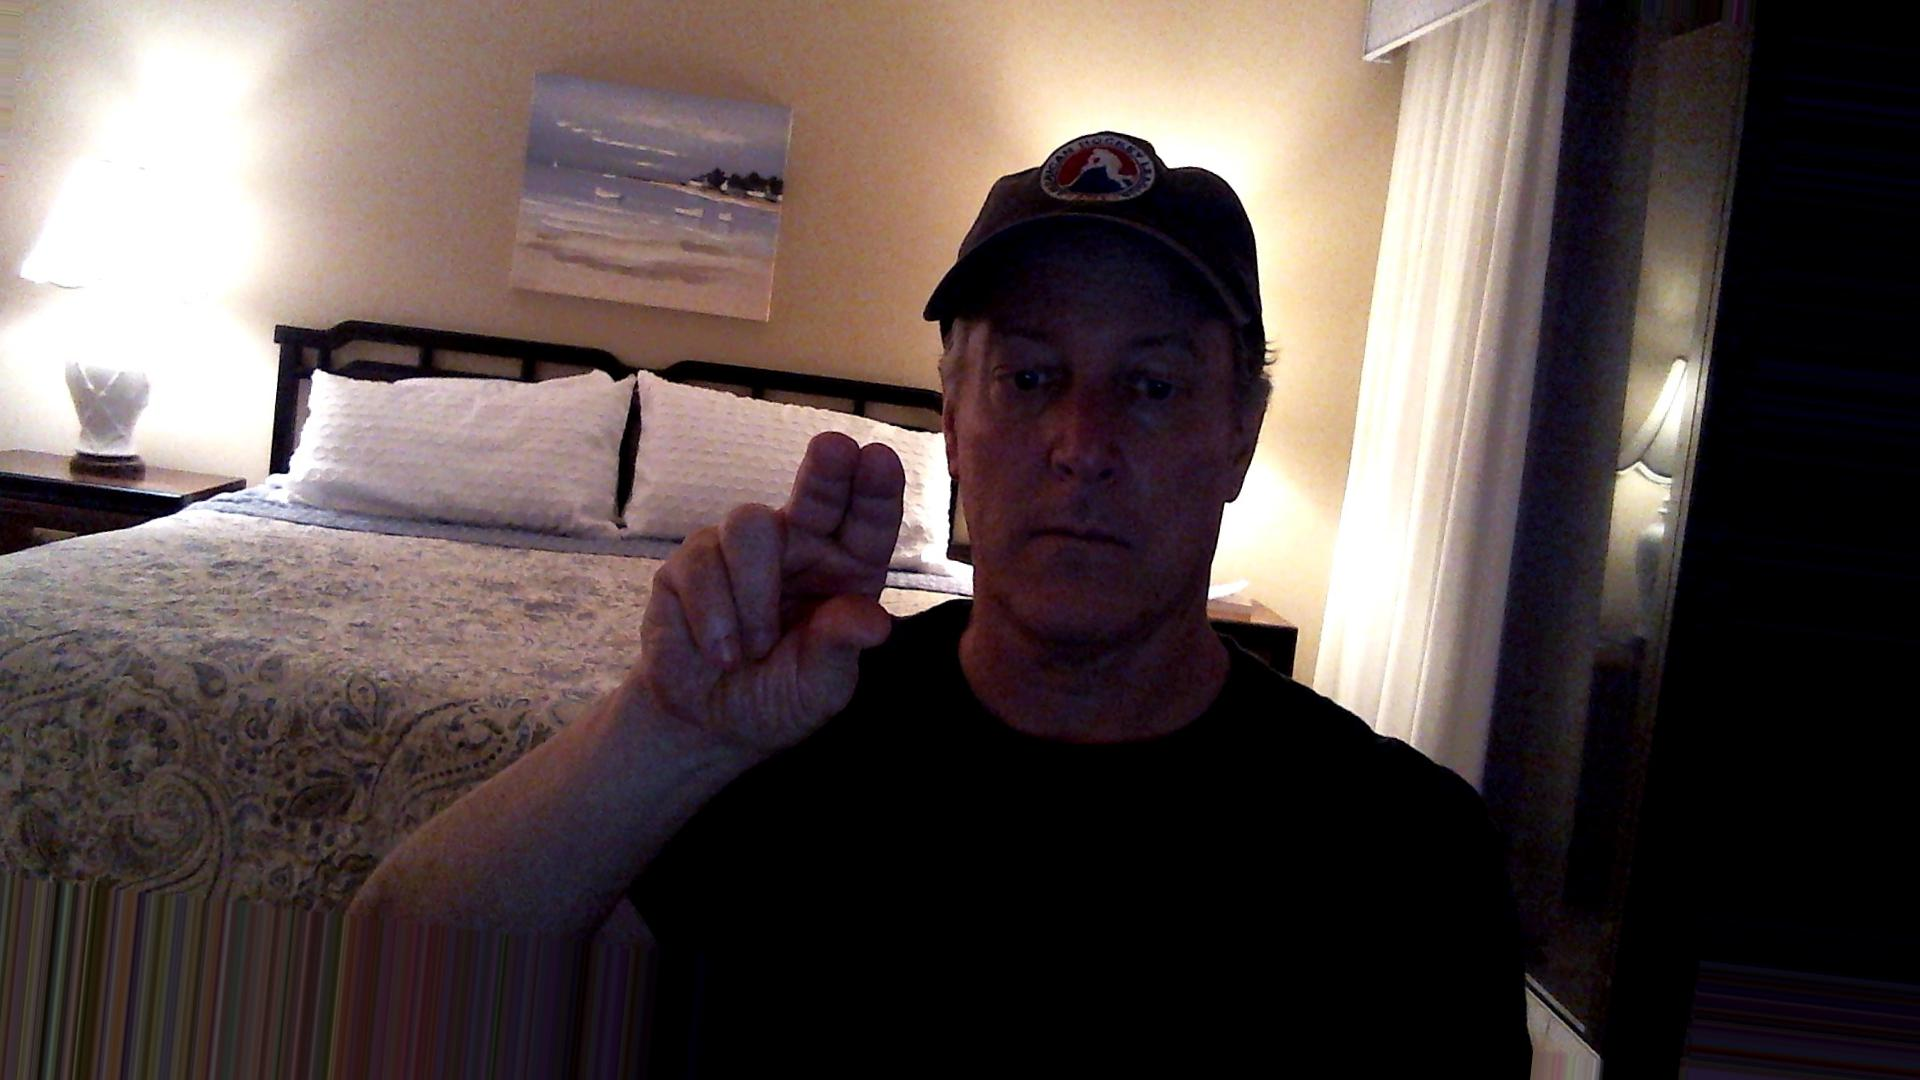No: (599, 406, 947, 810)
